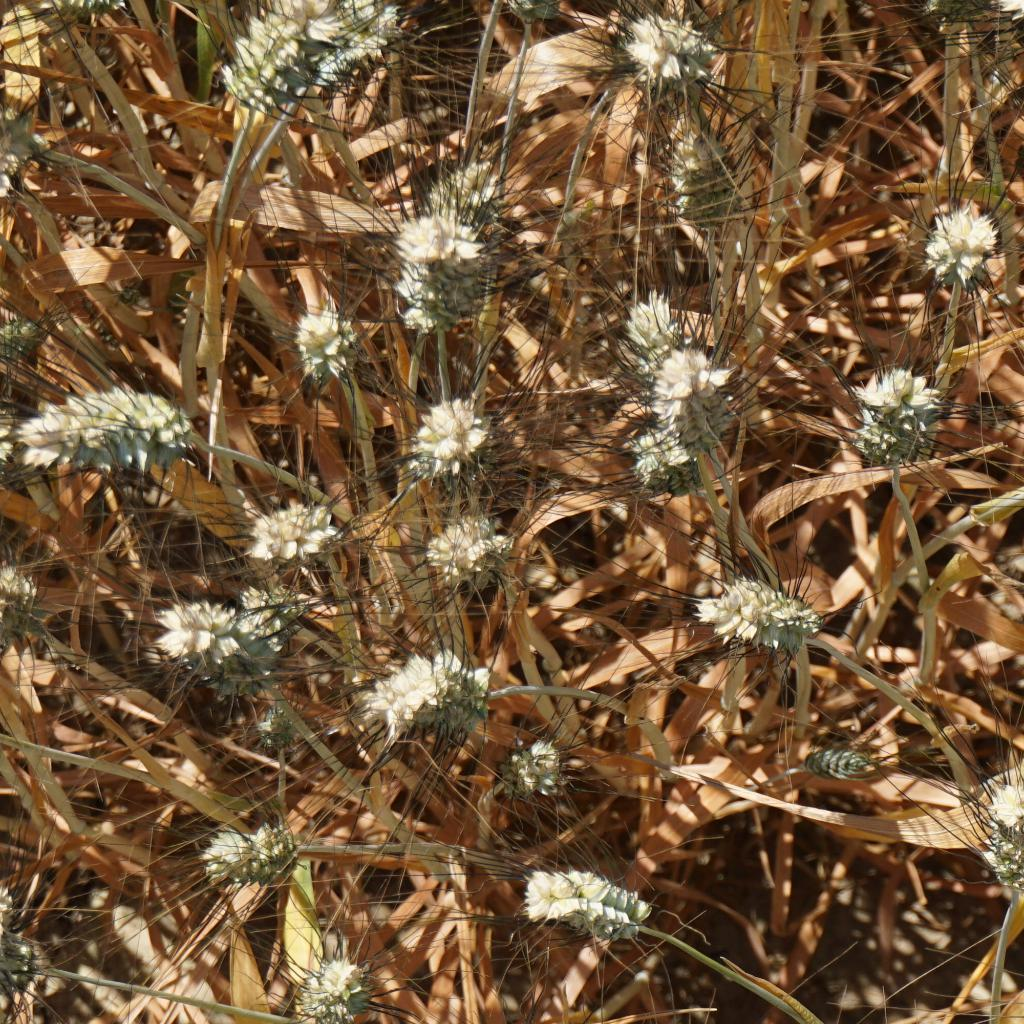0-0: (6, 366, 195, 476), (352, 630, 509, 732), (693, 559, 826, 661), (529, 860, 667, 943), (386, 202, 478, 321), (838, 362, 927, 480), (195, 797, 309, 884), (295, 0, 401, 90), (602, 4, 712, 90), (244, 490, 356, 570), (407, 505, 512, 588), (0, 882, 69, 1002), (222, 0, 303, 102), (903, 202, 1000, 287), (0, 118, 80, 218), (612, 405, 700, 492), (403, 376, 482, 472), (216, 586, 311, 665), (488, 716, 574, 803), (949, 777, 1024, 874), (161, 590, 242, 671), (303, 935, 372, 1024), (630, 342, 700, 415), (803, 730, 882, 785), (421, 157, 482, 222), (297, 303, 352, 372), (614, 283, 665, 348), (0, 570, 39, 649), (0, 305, 39, 381)
